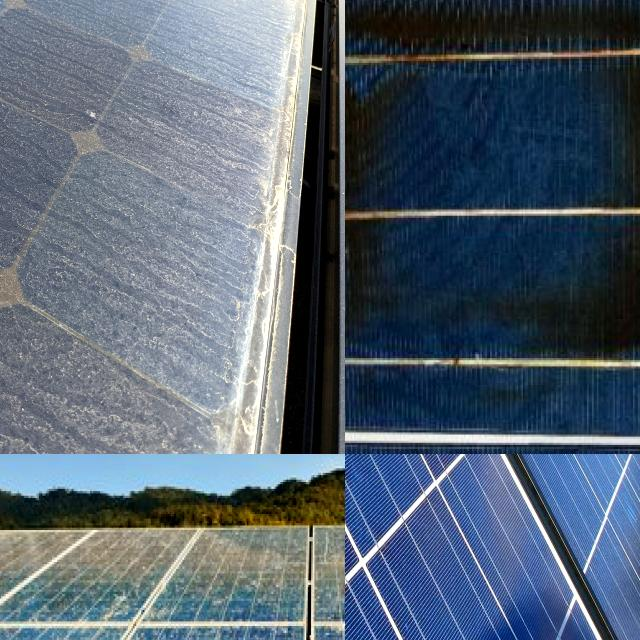crack: (345, 454, 474, 640), (345, 454, 458, 621)
dust: (72, 144, 244, 368), (0, 306, 107, 454), (0, 265, 84, 442), (119, 0, 246, 117), (0, 79, 77, 264), (0, 0, 98, 94), (0, 0, 59, 148)
shadow: (345, 0, 640, 363)
